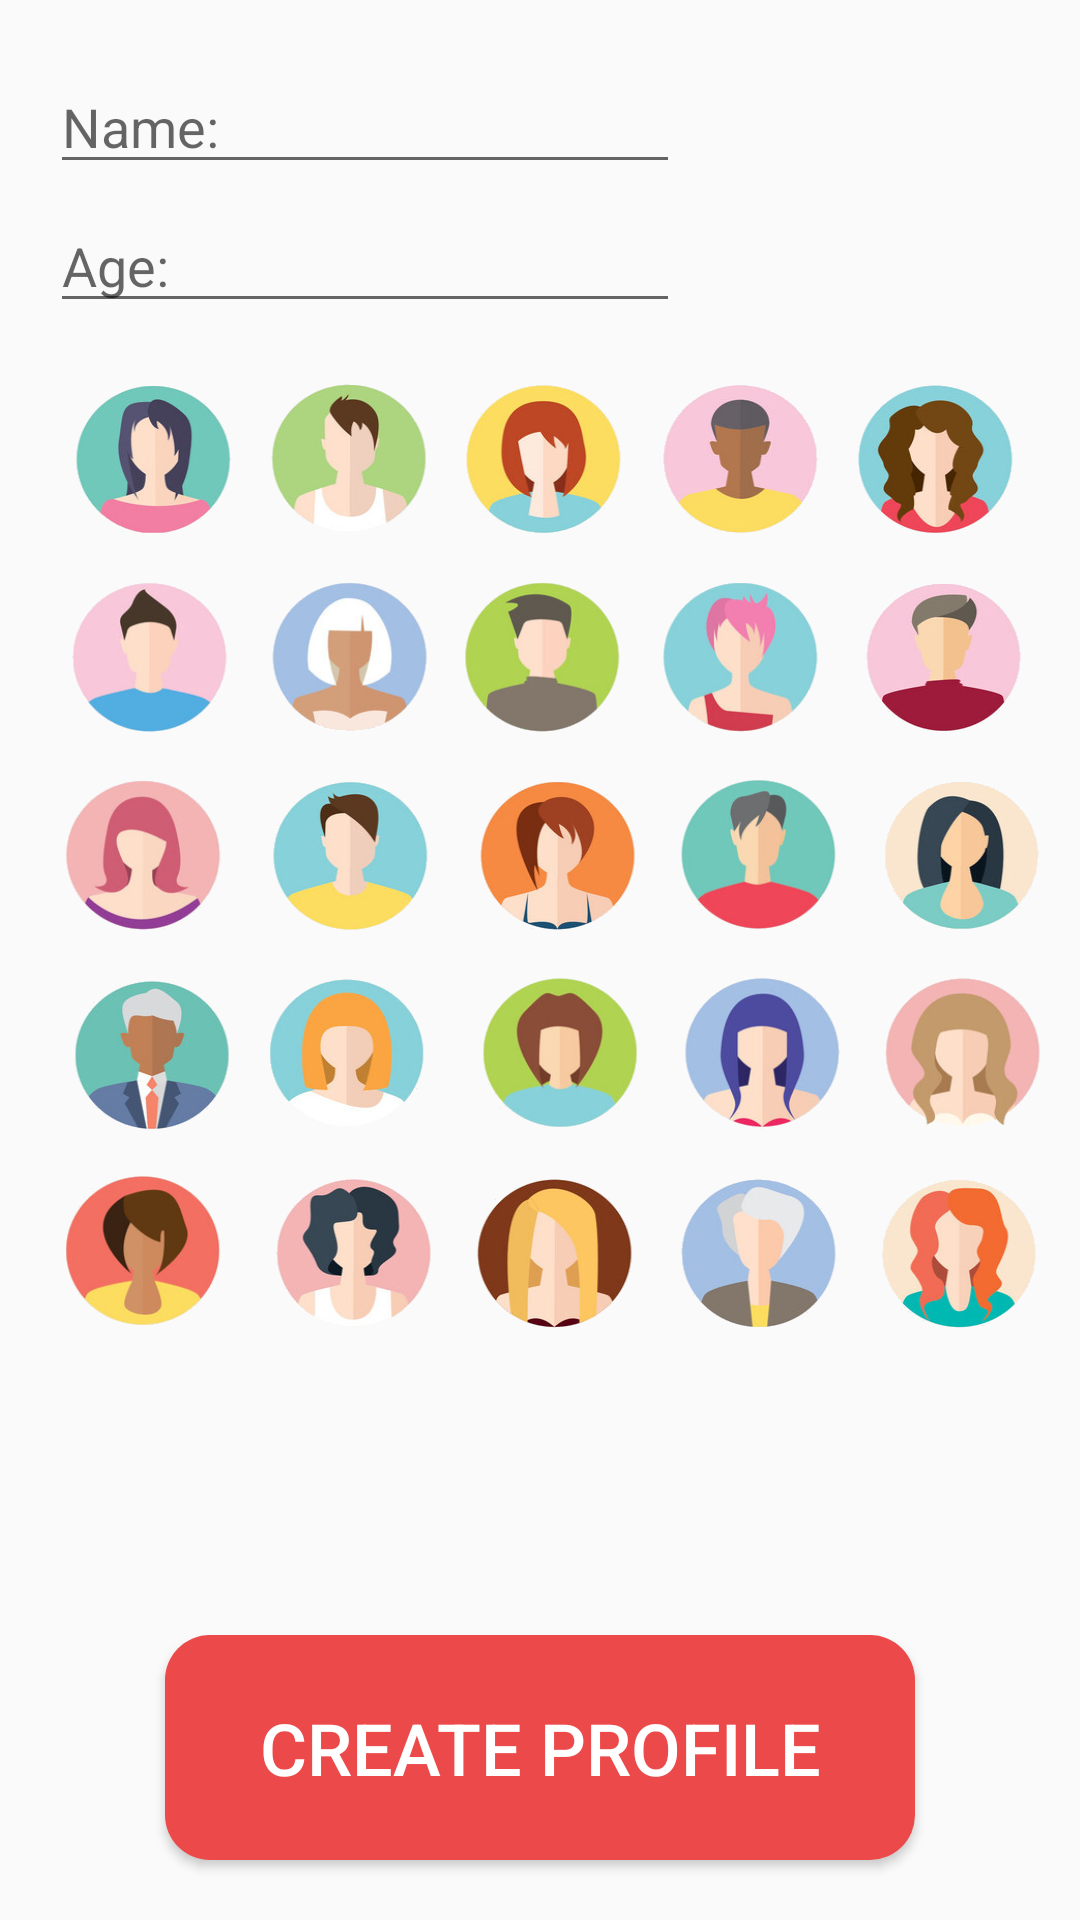

Locate icon controls on the screen. Image size 1080×1920, boxes as (x1, y1, x2, y2).
male: (272, 384, 426, 524), (664, 385, 817, 533), (73, 583, 226, 732), (465, 583, 619, 732), (867, 584, 1020, 731), (681, 780, 836, 929), (273, 782, 427, 930), (75, 981, 229, 1129)
